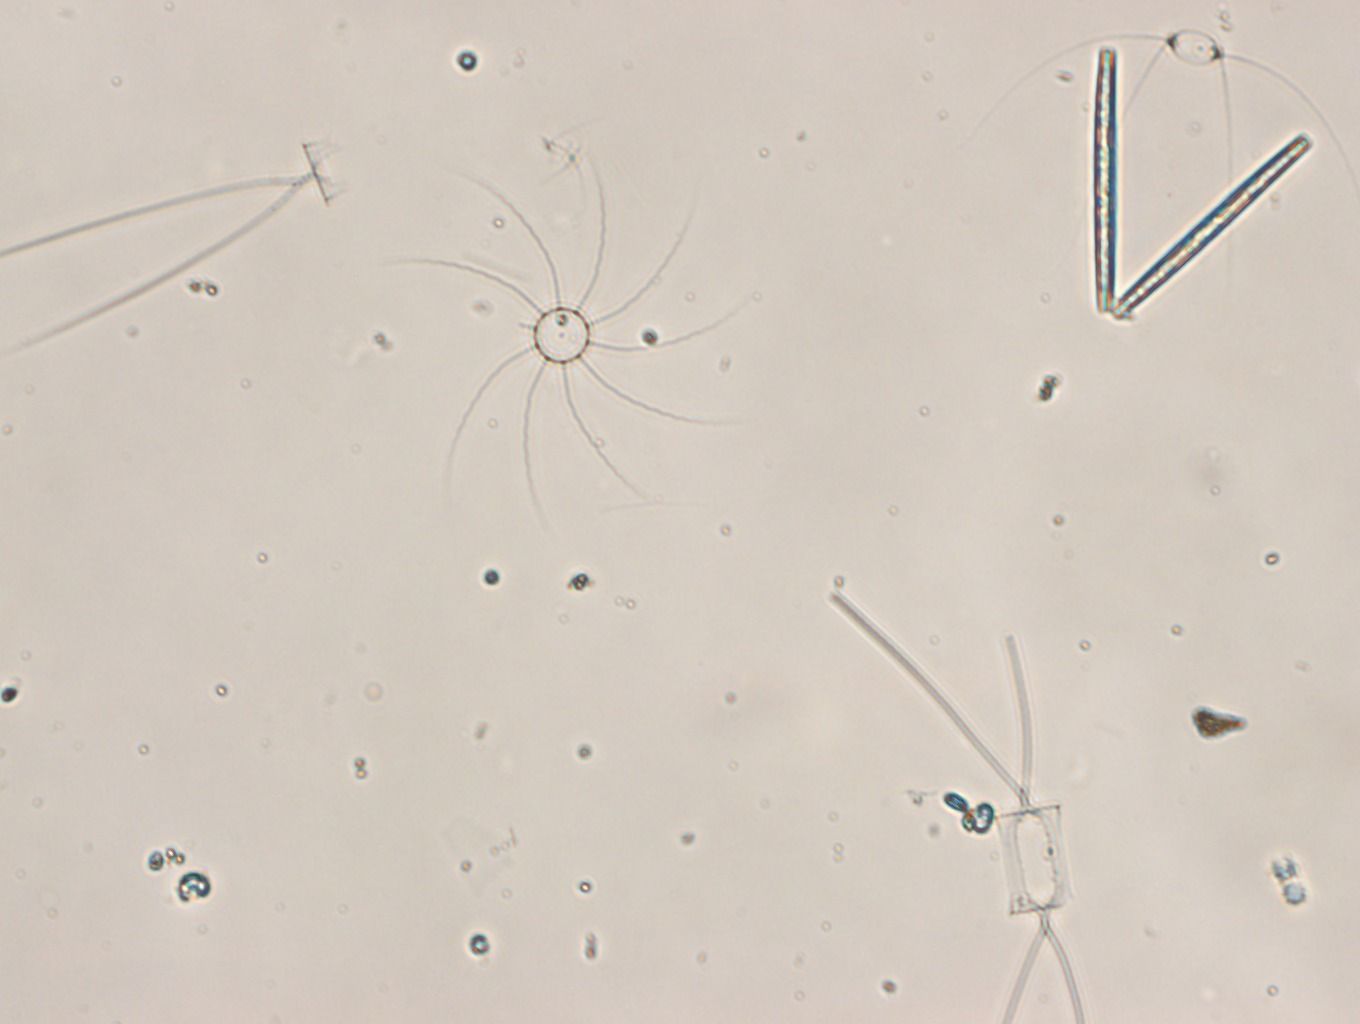bacteriastrum: (386, 148, 765, 529)
chaetoceros: (829, 594, 1084, 1024), (984, 29, 1357, 281), (1, 134, 350, 385)
thalassionema nitzschioides: (1092, 46, 1312, 321)
